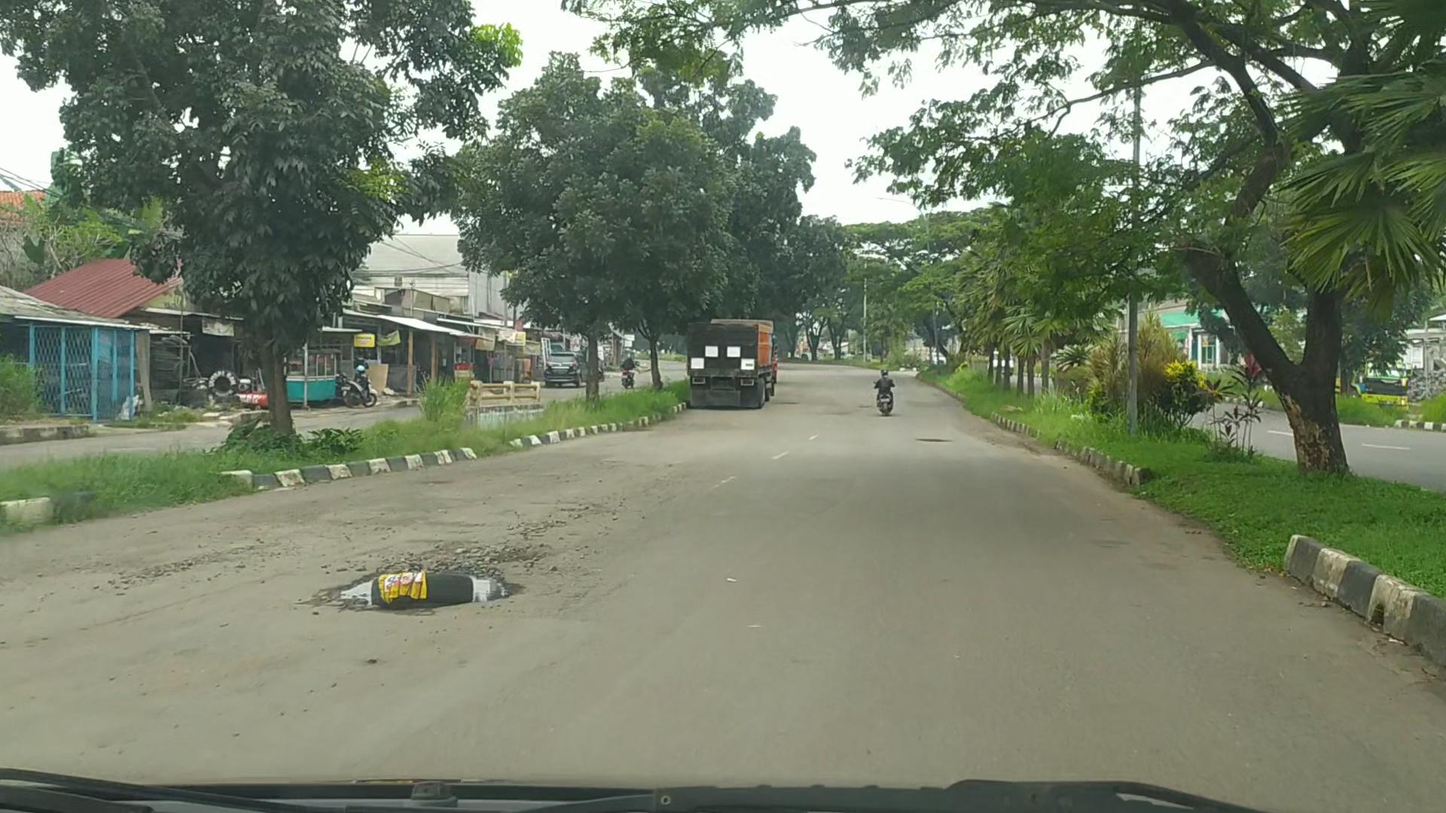pothole: (320, 554, 515, 614), (482, 548, 551, 564), (912, 437, 952, 443)
